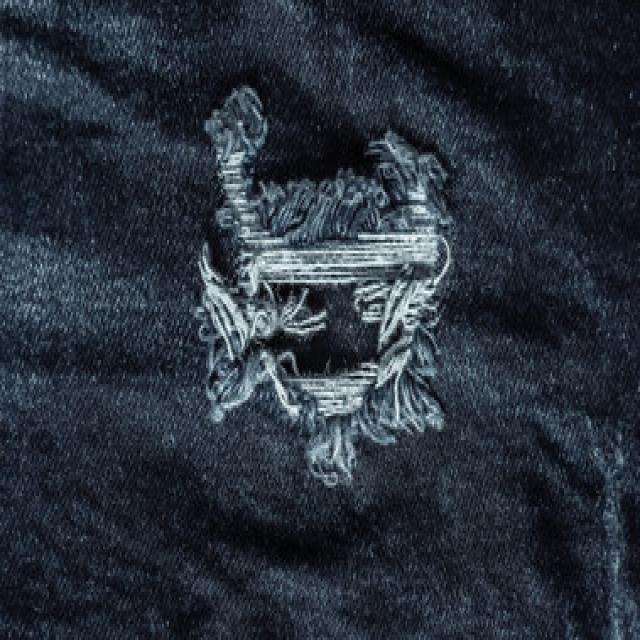Hole: (198, 86, 452, 488)
